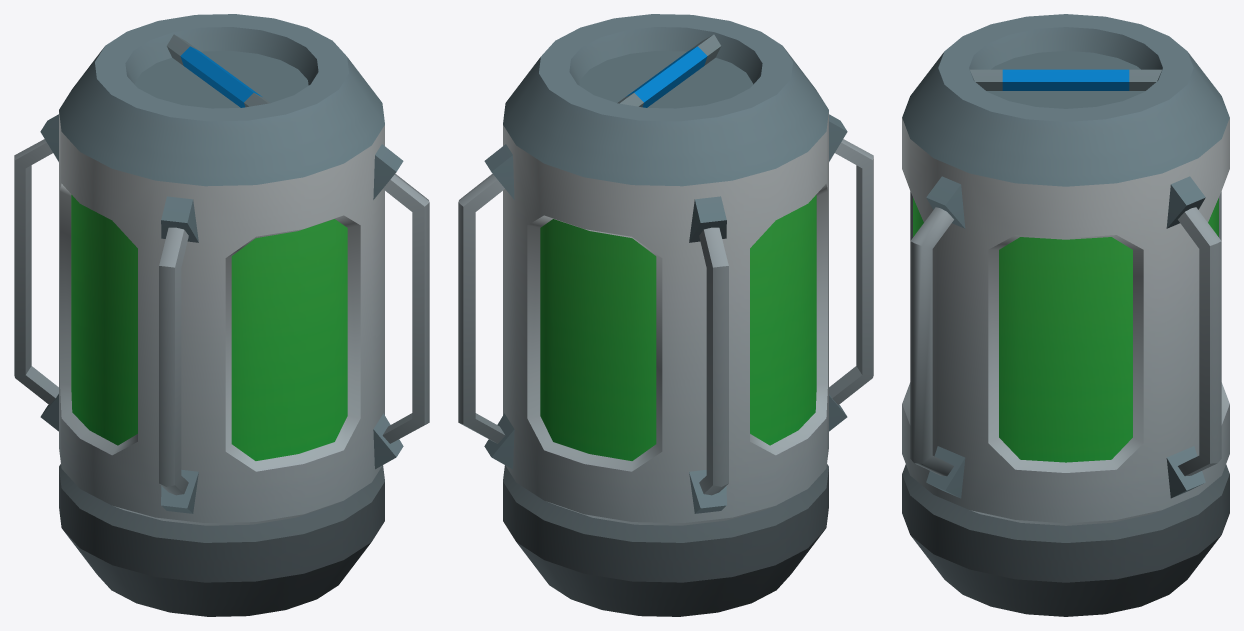
Rendered from Barrel_005.fbx.
The picture shows the model from 3 angles, left to right: view 1: azimuth 30°, elevation 25°; view 2: azimuth 150°, elevation 25°; view 3: azimuth 270°, elevation 25°; orthographic projection.
Visible parts, largest first — view 1: Barrel_005; view 2: Barrel_005; view 3: Barrel_005.
Part boxes in pixels (x1=…): Barrel_005: x1=14, y1=14, x2=429, y2=616; Barrel_005: x1=458, y1=14, x2=873, y2=616; Barrel_005: x1=902, y1=14, x2=1229, y2=616.
Size of the model in its own units: 60 by 60 by 100.
